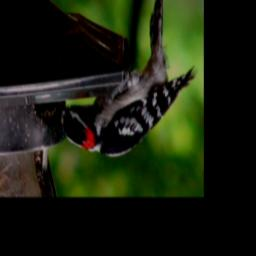Woodpecker: (54, 0, 199, 159)
